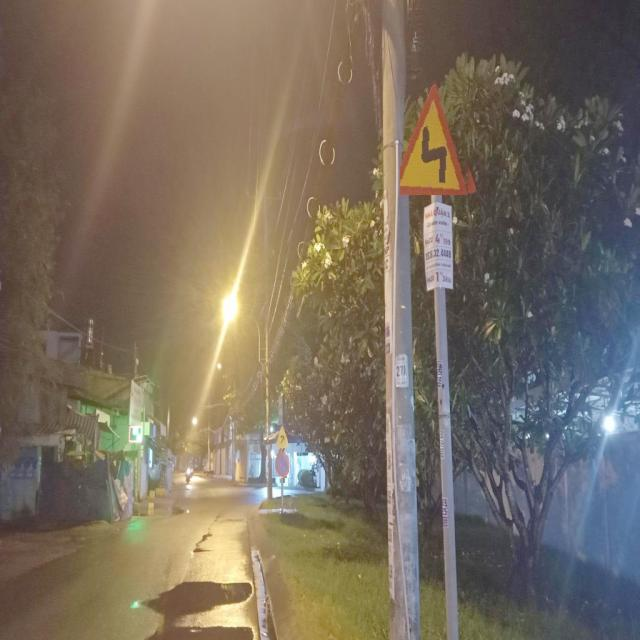cam_dung_xe_va_do_xe: (276, 450, 290, 478)
cho_ngoat_nguy_hiem_ben_trai: (276, 426, 288, 448)
cho_ngoat_nguy_hiem_lien_tiep: (400, 77, 476, 195)
